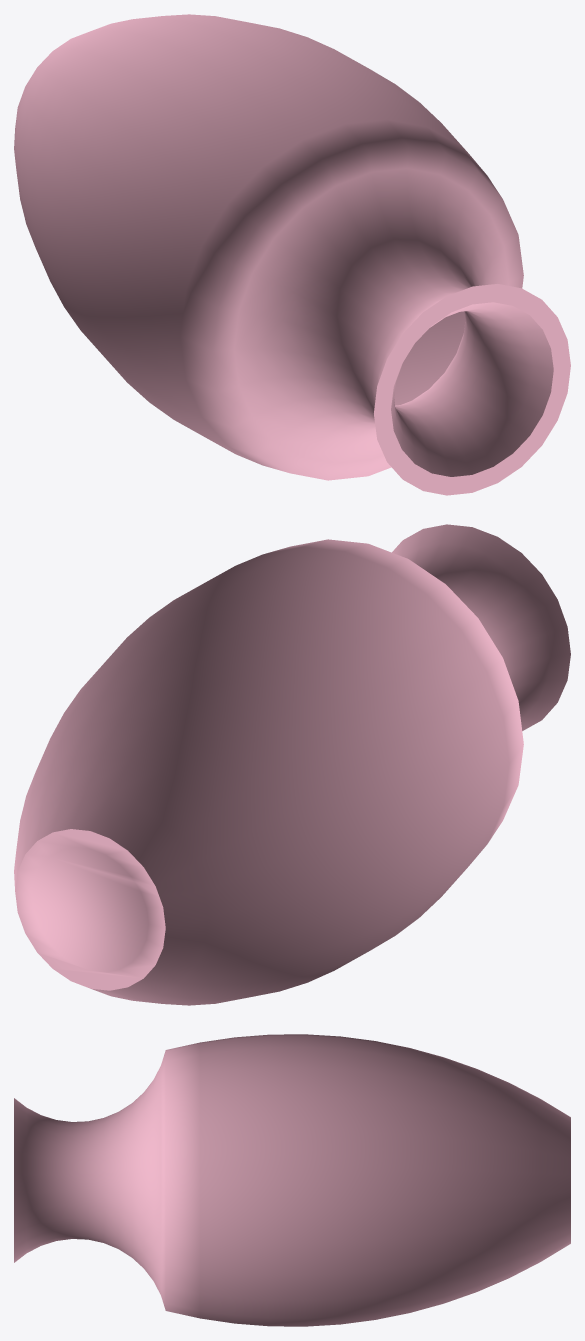
The model's file is model_scale.obj.
3 renders of one model, top to bottom at view 1: azimuth 30°, elevation 25°; view 2: azimuth 150°, elevation 25°; view 3: azimuth 270°, elevation 25°, orthographic. The views are drawn at different scales.
Parts seen in each view (by area): view 1: mesh1_mesh1-geometry; view 2: mesh1_mesh1-geometry; view 3: mesh1_mesh1-geometry.
Boxes of the visible parts, x1,y1,x2,y2 form: mesh1_mesh1-geometry: (14,14,570,495); mesh1_mesh1-geometry: (14,524,570,1005); mesh1_mesh1-geometry: (14,1034,570,1326).
Bounding box in the file's own units: 0.1214 × 0.1214 × 0.2305.
